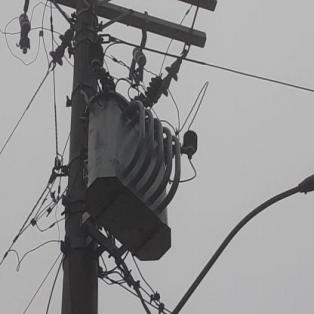Poste: (60, 1, 100, 314)
